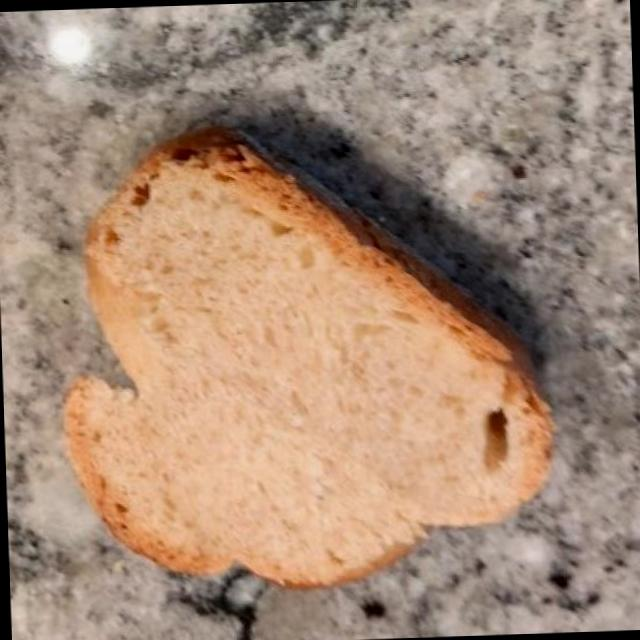Bread: (44, 104, 566, 602)
